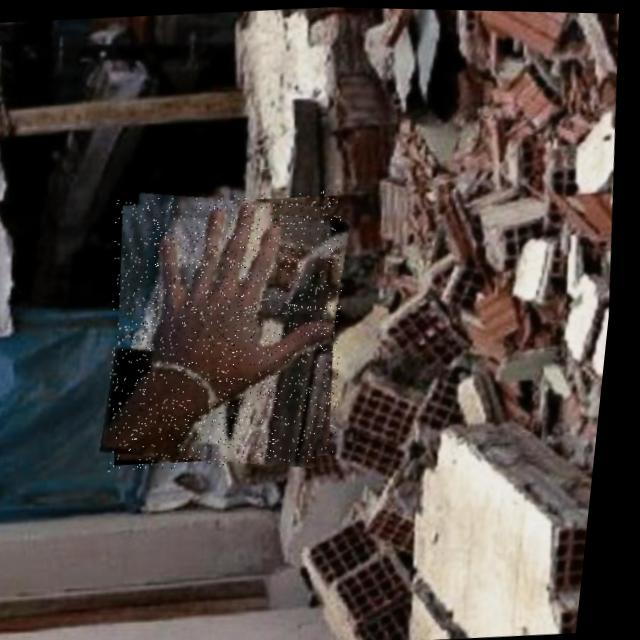Person in Rubble: (98, 182, 367, 474)
